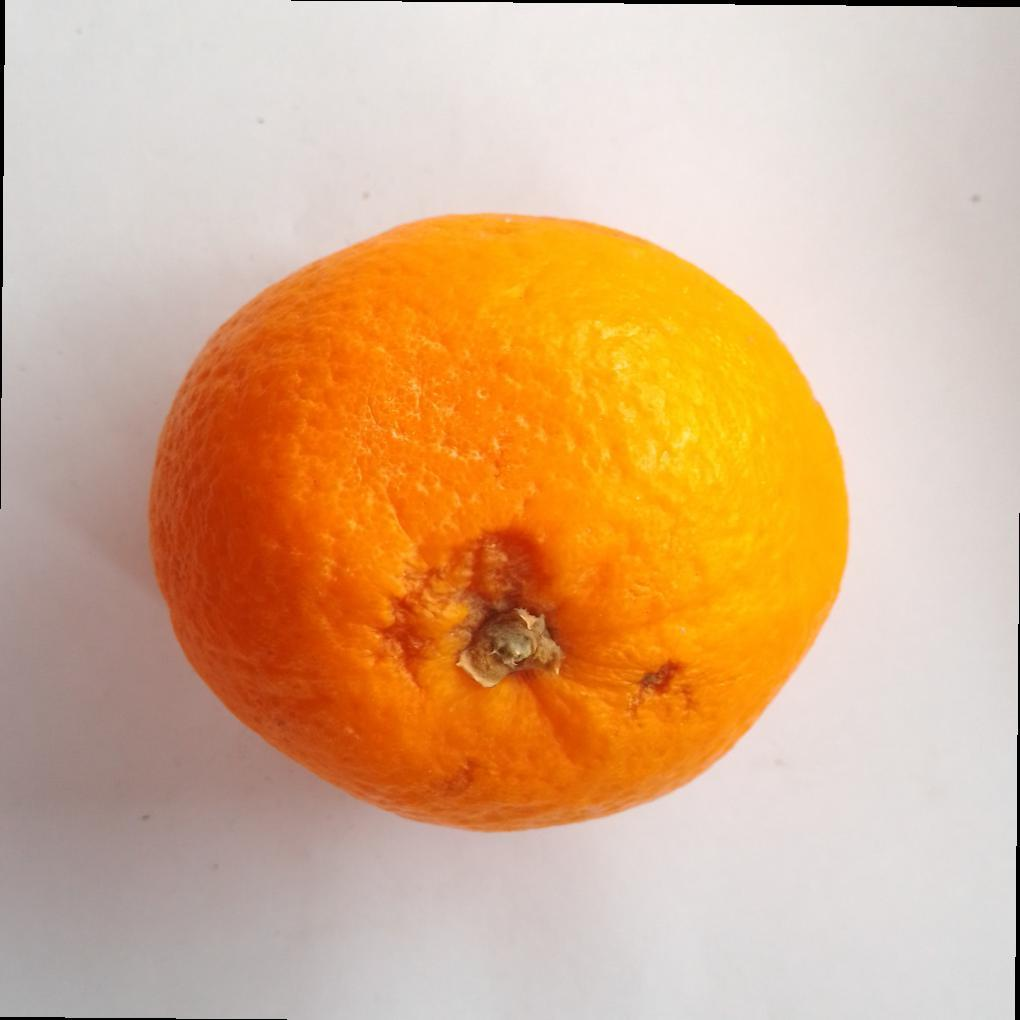FreshGuava: (146, 213, 852, 838)
